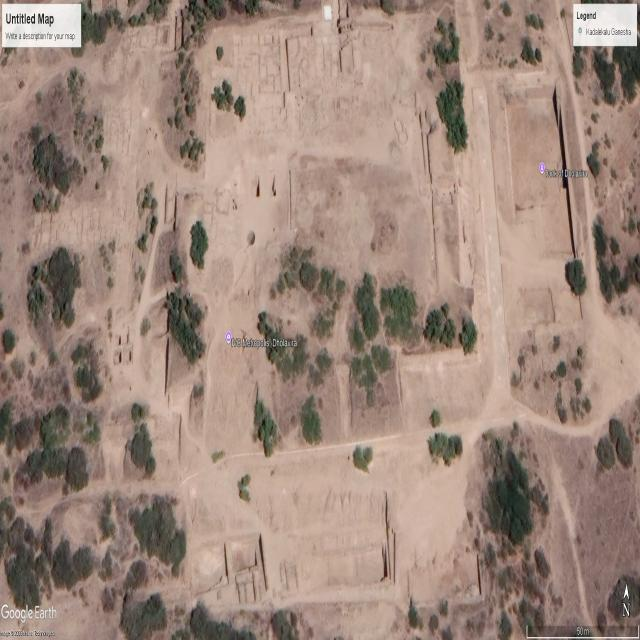artifacts: (192, 498, 357, 610), (172, 165, 290, 241), (199, 532, 272, 608), (123, 2, 181, 55), (112, 326, 133, 366)
ruins: (504, 91, 565, 221), (31, 196, 128, 264), (403, 354, 486, 433), (421, 194, 466, 313), (116, 405, 182, 484), (407, 544, 477, 614), (409, 587, 494, 640), (292, 89, 344, 141), (150, 224, 187, 295), (102, 98, 132, 160)
vegetation: (5, 480, 186, 620), (9, 395, 100, 496), (348, 270, 408, 418), (478, 429, 546, 555), (259, 279, 326, 389), (424, 9, 470, 161), (520, 332, 594, 424), (574, 17, 638, 117), (274, 245, 335, 331), (28, 245, 84, 336), (477, 1, 541, 71), (165, 51, 203, 165), (592, 218, 639, 308), (32, 128, 82, 206), (165, 287, 206, 367), (425, 296, 478, 356), (379, 282, 420, 346), (596, 416, 635, 471), (428, 408, 463, 469), (252, 392, 280, 461), (607, 574, 639, 626), (300, 395, 322, 448), (189, 220, 208, 270), (564, 257, 586, 297), (352, 442, 374, 474)
